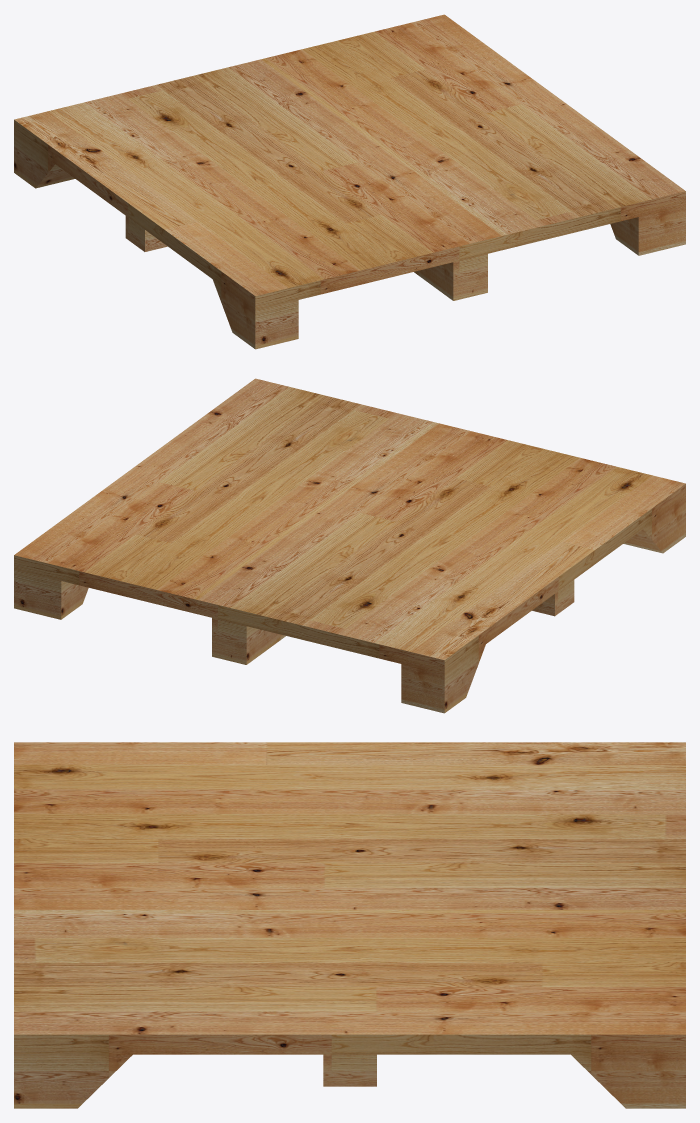
Rendered from BigShelvesWoodBox.FBX.
3 renders of one model, top to bottom at view 1: azimuth 30°, elevation 25°; view 2: azimuth 150°, elevation 25°; view 3: azimuth 270°, elevation 25°, orthographic. The views are drawn at different scales.
Parts seen in each view (by area): view 1: BigShelvesWoodBox; view 2: BigShelvesWoodBox; view 3: BigShelvesWoodBox.
Boxes of the visible parts, x1,y1,x2,y2 form: BigShelvesWoodBox: (14, 14, 685, 349); BigShelvesWoodBox: (14, 378, 685, 713); BigShelvesWoodBox: (14, 742, 685, 1108).
Bounding box in the file's own units: 41.33 × 4.88 × 40.13.
